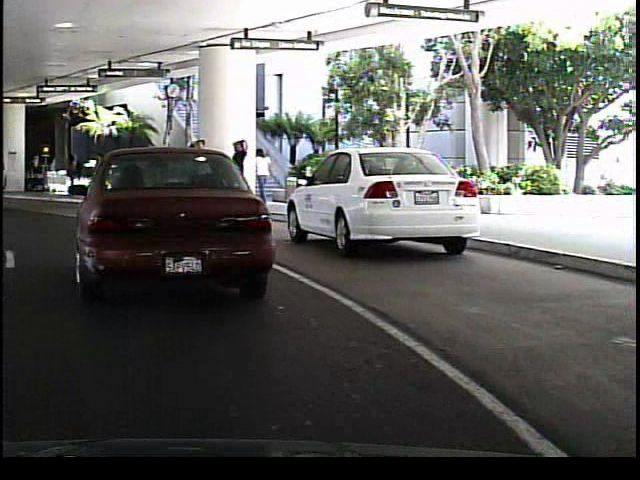person: (183, 134, 211, 207), (225, 135, 248, 212), (62, 149, 82, 202), (81, 156, 104, 196), (255, 145, 271, 199)
